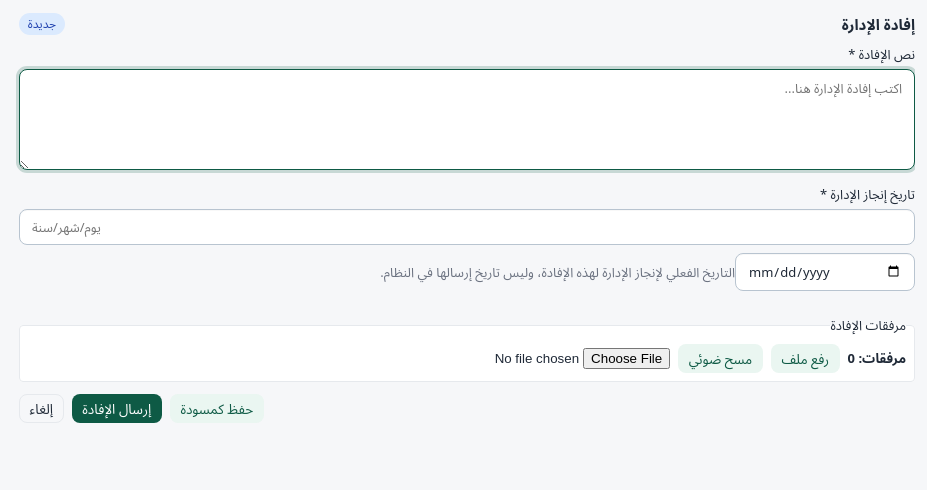
Test: DepartmentResponseInlinePanel › does not submit without a completion date
The width and height of the screenshot is (927, 490).
Type "نص الإفادة" into the text box labelled "نص الإفادة *" at (467, 119), box [19,69,915,170]
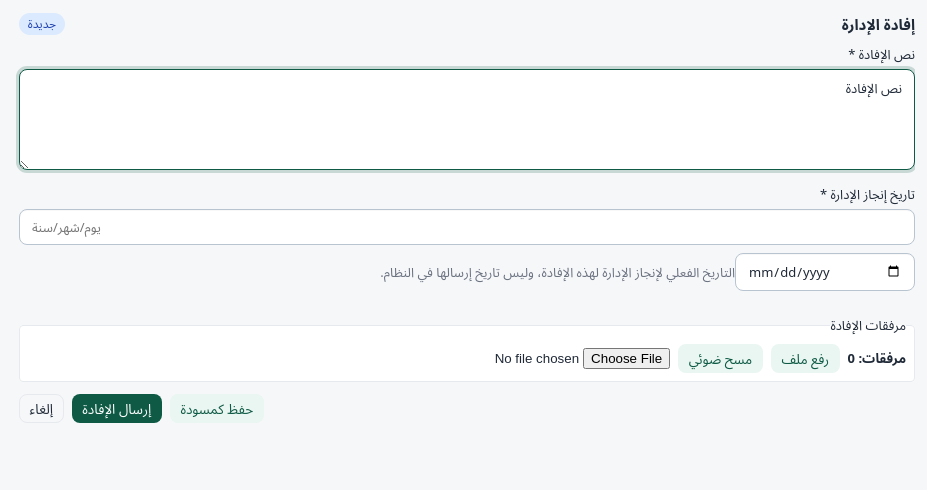
Click the button "إرسال الإفادة" at (117, 408), box [72,394,162,423]
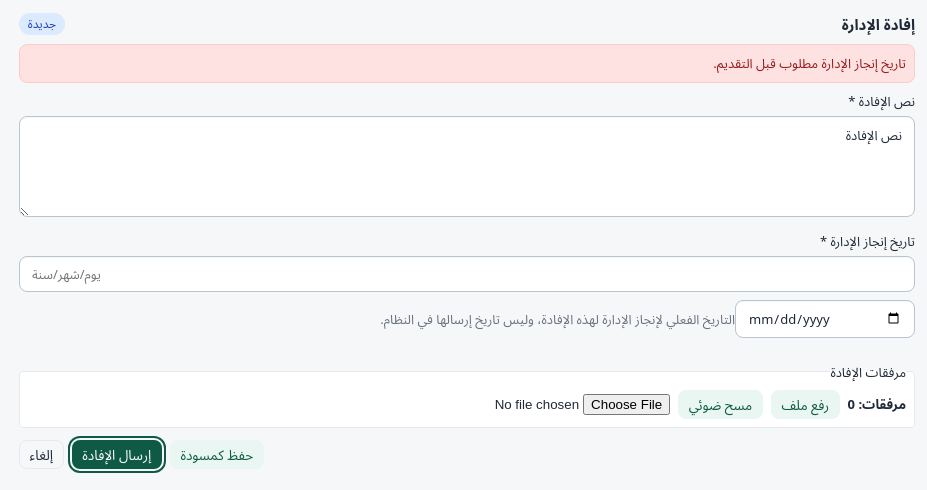
Expected: the text "تاريخ إنجاز الإدارة مطلوب قبل التقديم." is shown, [19,44,915,83]
